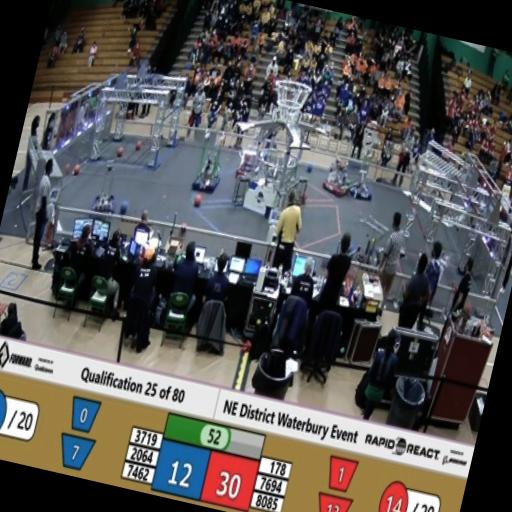robot: (337, 228, 395, 304), (78, 154, 130, 233), (184, 132, 230, 204), (316, 146, 358, 204), (346, 156, 382, 210)
